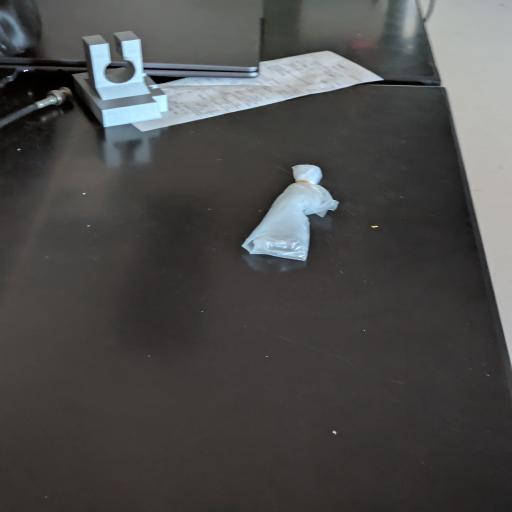rubberband: (238, 163, 343, 264)
